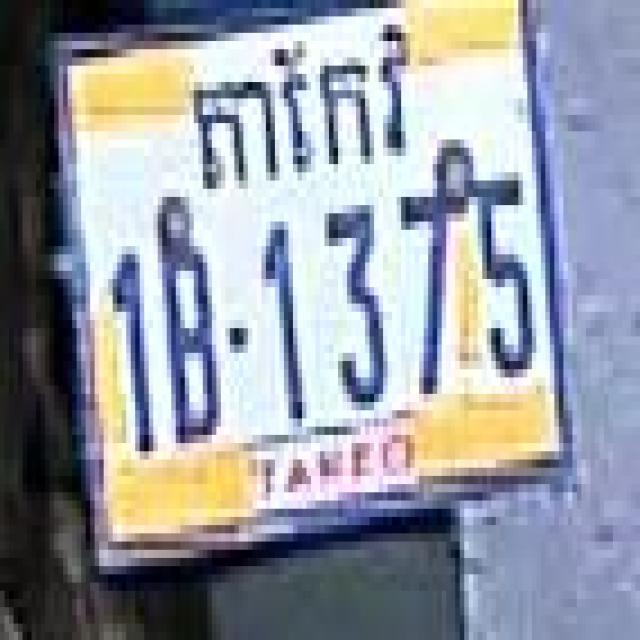Takeo: (190, 25, 406, 190)
